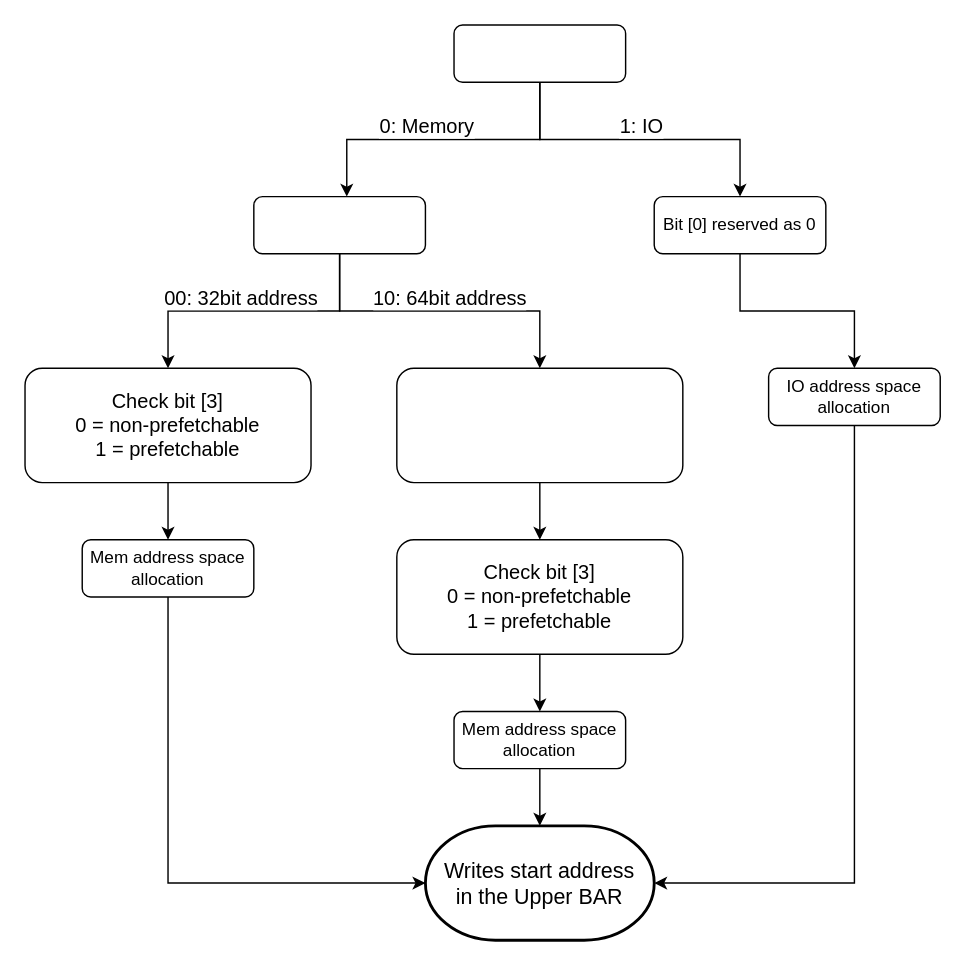
The diagram is 965 pixels wide and 967 high, and some of its shapes have lost their labels. The centre of each missing label's shape, as x and y in pixels:
"Check bit [0]" goes at point (539, 53).
"Check bits [2:1]" goes at point (338, 224).
"Concatenate the adjacent BAR for bits [63:32]" goes at point (539, 425).
